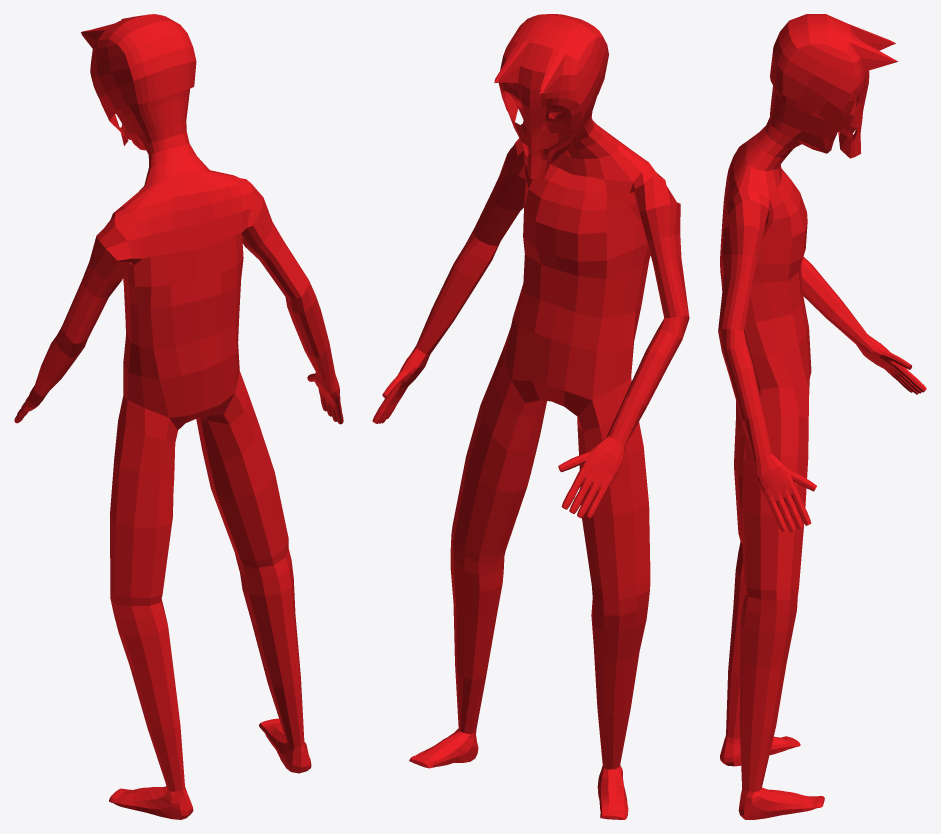
File: reposoE_000305.obj
3 renders of one model, left to right at view 1: azimuth 30°, elevation 25°; view 2: azimuth 150°, elevation 25°; view 3: azimuth 270°, elevation 25°, orthographic. The views are drawn at different scales.
Parts seen in each view (by area): view 1: Plane.002_Plane.001; view 2: Plane.002_Plane.001; view 3: Plane.002_Plane.001.
Part boxes in pixels (box(x1,y1,x2,y2)): Plane.002_Plane.001: box(14, 14, 343, 819); Plane.002_Plane.001: box(372, 14, 689, 819); Plane.002_Plane.001: box(718, 14, 926, 819).
Bounding box in the file's own units: 2.79 × 7.14 × 1.81.
